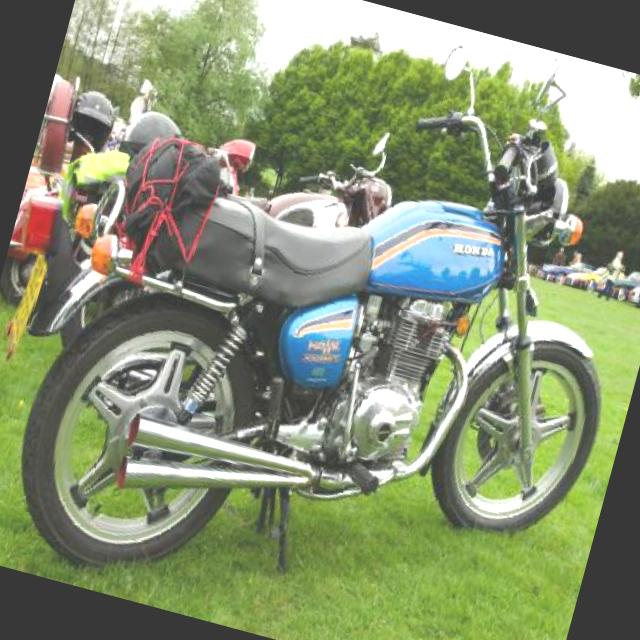Person: (594, 248, 628, 306), (550, 244, 572, 268), (567, 248, 582, 269)
